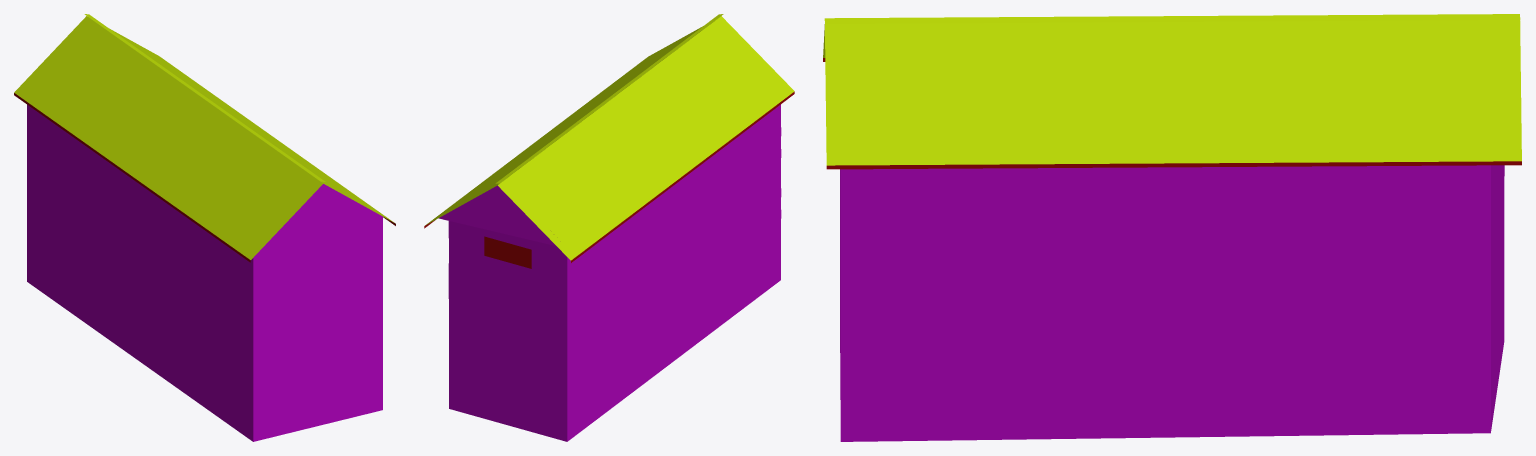
File: bgj_239.glb
3 renders of one model, left to right at view 1: azimuth 30°, elevation 25°; view 2: azimuth 150°, elevation 25°; view 3: azimuth 270°, elevation 25°, orthographic. The views are drawn at different scales.
Visible parts, largest first — view 1: bgj_239; view 2: bgj_239; view 3: bgj_239.
Part boxes in pixels (x1,y1,x2,y2): bgj_239: (14,14,395,441); bgj_239: (424,14,794,441); bgj_239: (823,14,1521,441).
Bounding box in the file's own units: 7.38 × 11.52 × 19.5.
